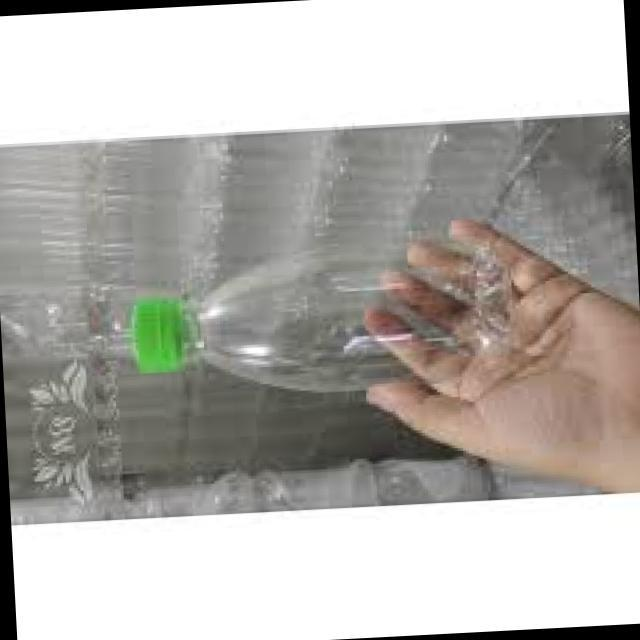good: (112, 214, 548, 434)
